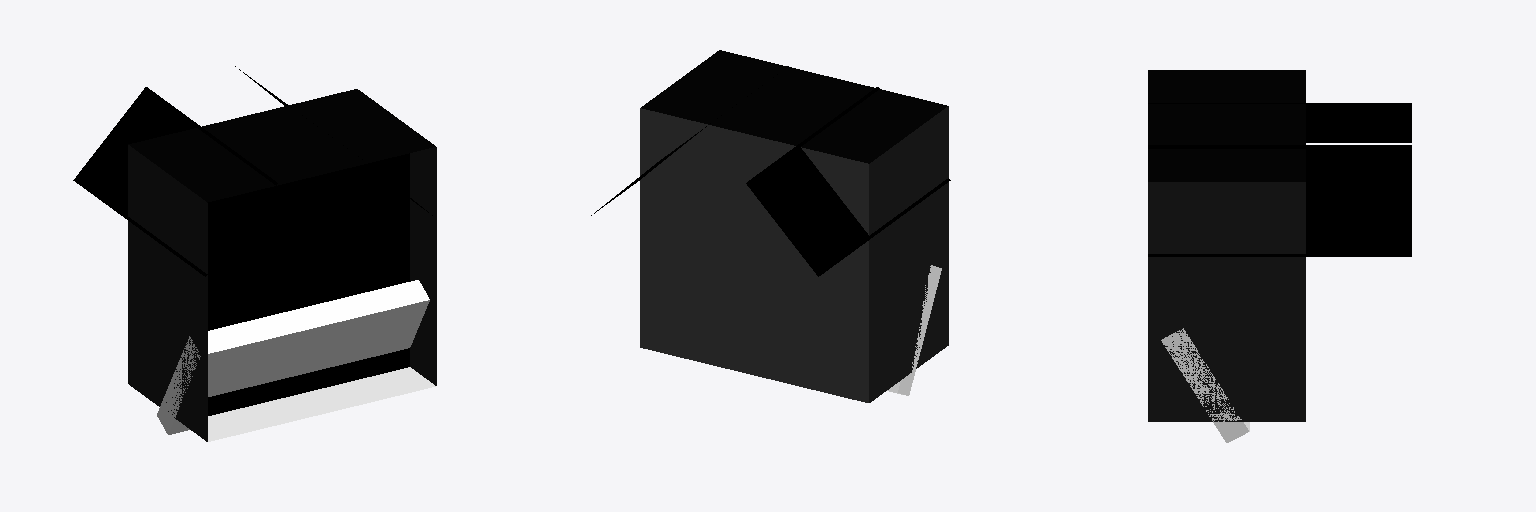
File: triangles.obj
The picture shows the model from 3 angles: view 1: azimuth 30°, elevation 25°; view 2: azimuth 150°, elevation 25°; view 3: azimuth 270°, elevation 25°; orthographic projection.
Parts seen in each view (by area): view 1: Plane.005_Plane.007, Plane, Plane.001, Cube_Cube.001, Plane.035, Plane.004, Plane.002; view 2: Plane.005_Plane.001, Plane, Plane.001, Plane.035, Cube_Cube.001; view 3: Plane.002, Plane.001, Plane.034, Plane.035, Cube_Cube.001.
Part boxes in pixels (x1,y1,x2,y2): Plane.005_Plane.007: (208,153,409,415); Plane: (128,145,207,441); Plane.001: (128,89,435,202); Cube_Cube.001: (157,280,429,434); Plane.035: (73,87,277,276); Plane.004: (208,367,435,441); Plane.002: (410,147,436,385); Plane.005_Plane.001: (640,108,868,402); Plane: (869,106,948,402); Plane.001: (641,50,947,163); Plane.035: (746,87,950,276); Cube_Cube.001: (887,265,941,395); Plane.002: (1148,182,1305,421); Plane.001: (1148,70,1305,181); Plane.034: (1148,145,1411,256); Plane.035: (1148,103,1411,142); Cube_Cube.001: (1161,328,1249,442).
Size of the model in its own units: 20.36 by 22.01 by 20.